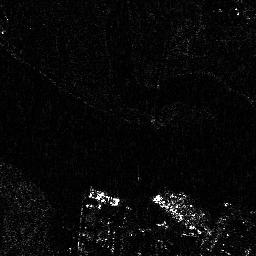ship: (88, 185, 120, 207)
